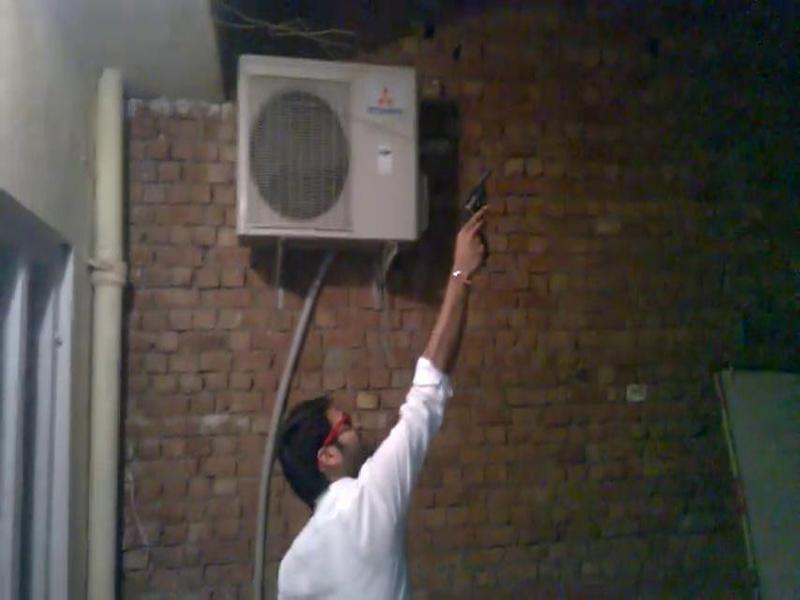Revolver: (456, 148, 508, 263)
